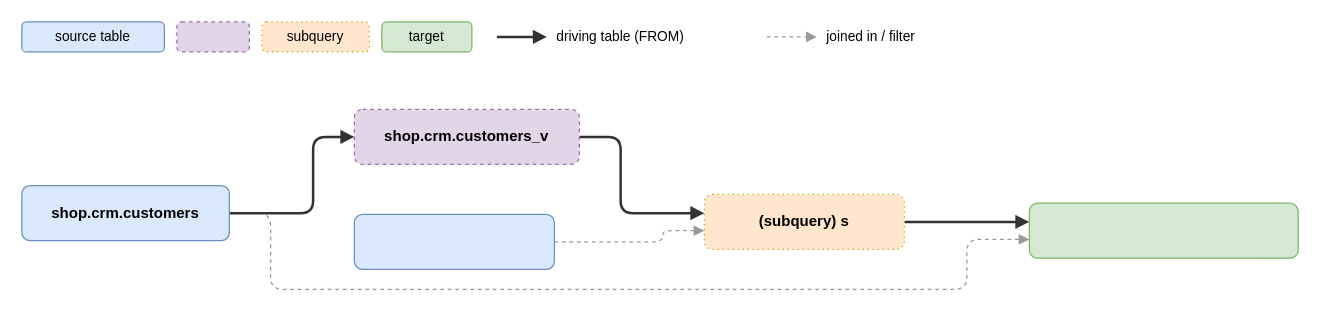
The diagram is 1320 pixels wide and 321 high, and some of its shapes have lost their labels. The box of each missing label's shape, as (x1, y1, x2, y2) in pixels:
shop.dw.customer_snapshot: (1028, 202, 1298, 258)
shop.sales.orders: (353, 213, 554, 269)
view: (176, 21, 249, 52)
